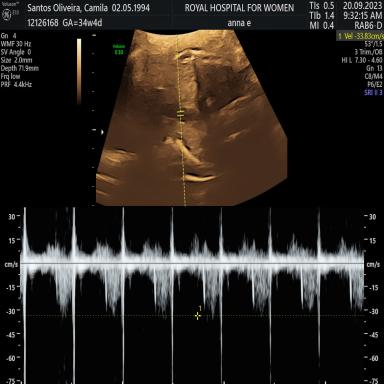Ultrasound-Waves: (31, 207, 364, 384)
